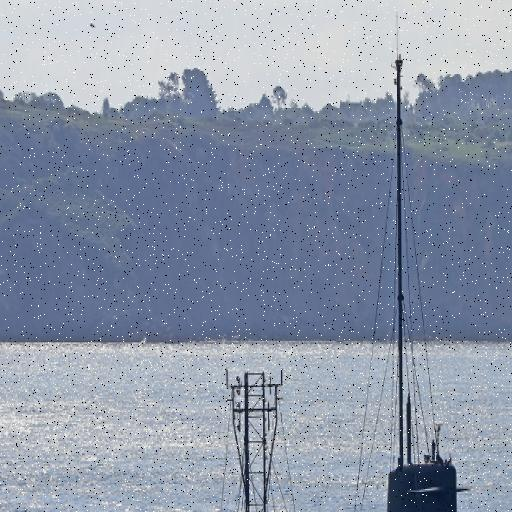submarine: (1, 470, 512, 512)
